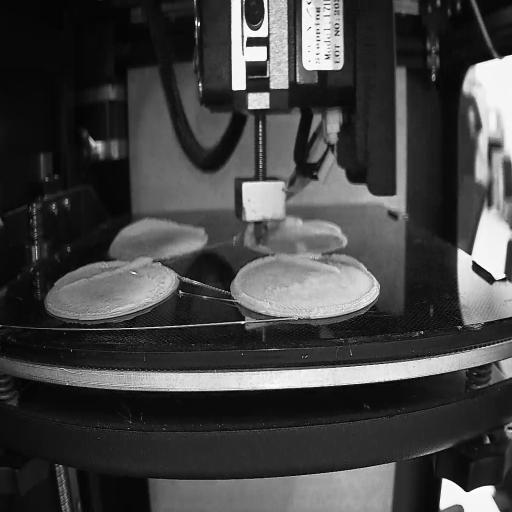over_extrusion: (59, 254, 152, 291), (235, 254, 275, 308), (115, 218, 208, 240), (279, 253, 367, 276), (288, 215, 345, 237)
